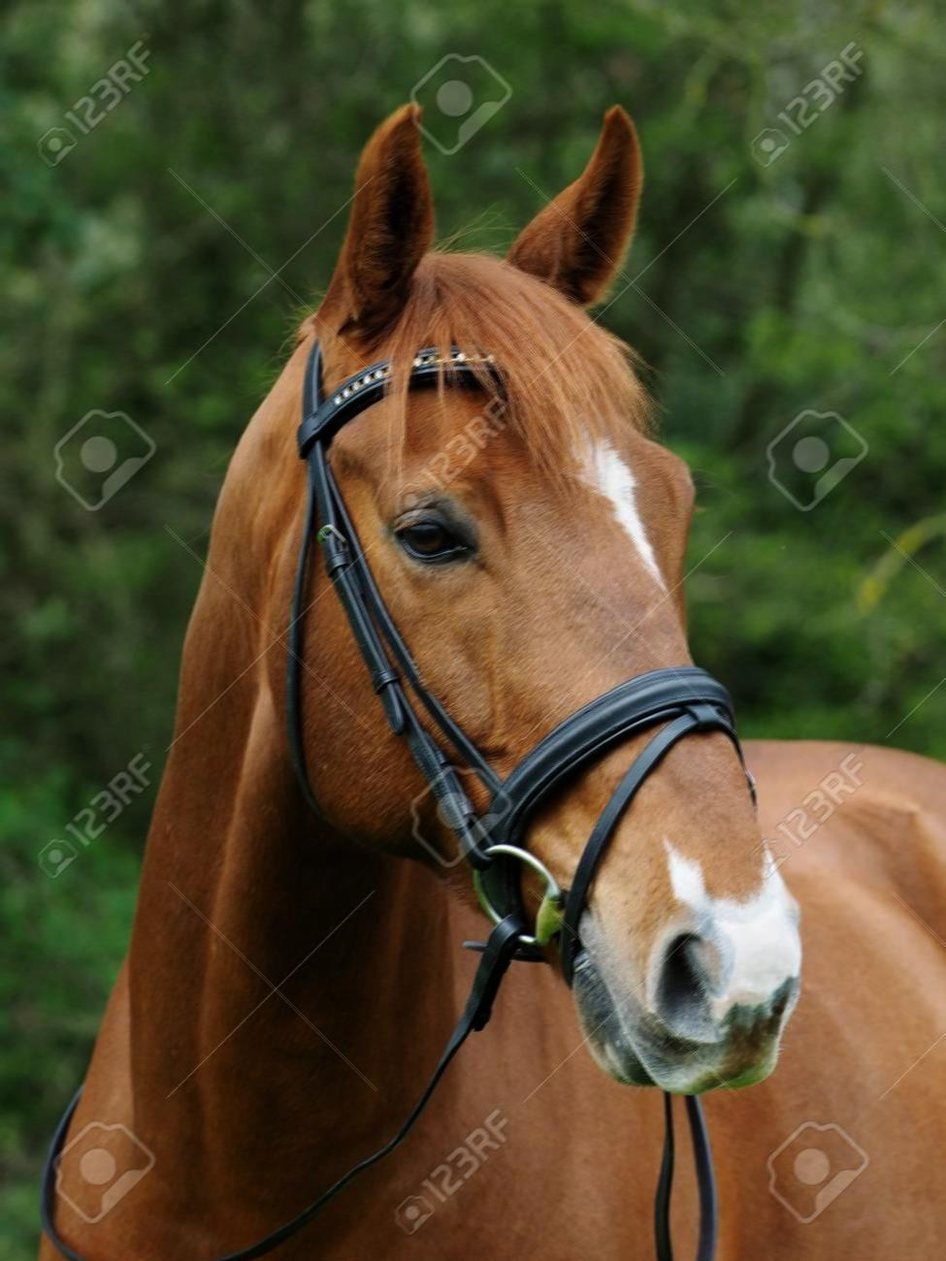horse: (1, 72, 946, 1261)
